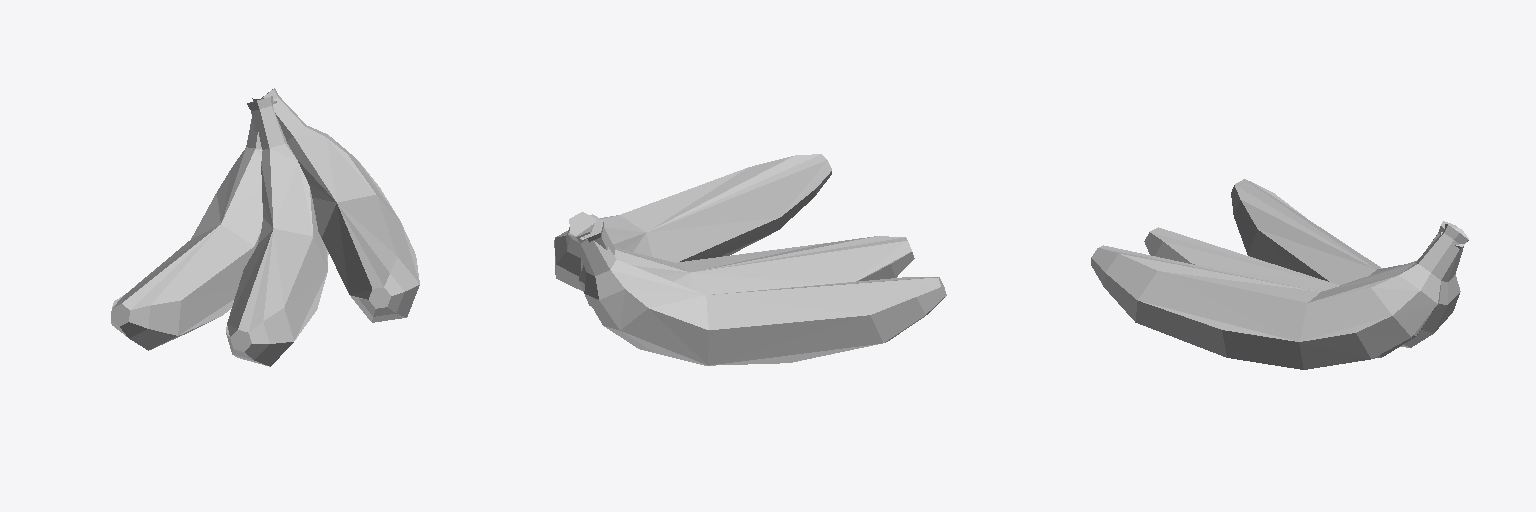
The model's file is banana2.obj.
3 renders of one model, left to right at view 1: azimuth 30°, elevation 25°; view 2: azimuth 150°, elevation 25°; view 3: azimuth 270°, elevation 25°, orthographic.
Visible parts, largest first — view 1: Icosphere.003, Icosphere.004, Icosphere.002; view 2: Icosphere.002, Icosphere.004, Icosphere.003; view 3: Icosphere.004, Icosphere.002, Icosphere.003.
Boxes of the visible parts, <box> form: Icosphere.003: <box>226,96,328,366</box>; Icosphere.004: <box>260,88,419,322</box>; Icosphere.002: <box>111,98,276,350</box>; Icosphere.002: <box>568,223,946,365</box>; Icosphere.004: <box>554,154,831,290</box>; Icosphere.003: <box>579,214,914,306</box>; Icosphere.004: <box>1091,224,1467,369</box>; Icosphere.002: <box>1231,179,1468,347</box>; Icosphere.003: <box>1144,221,1457,358</box>.
Size of the model in its own units: 0.2267 by 0.1086 by 0.2301.